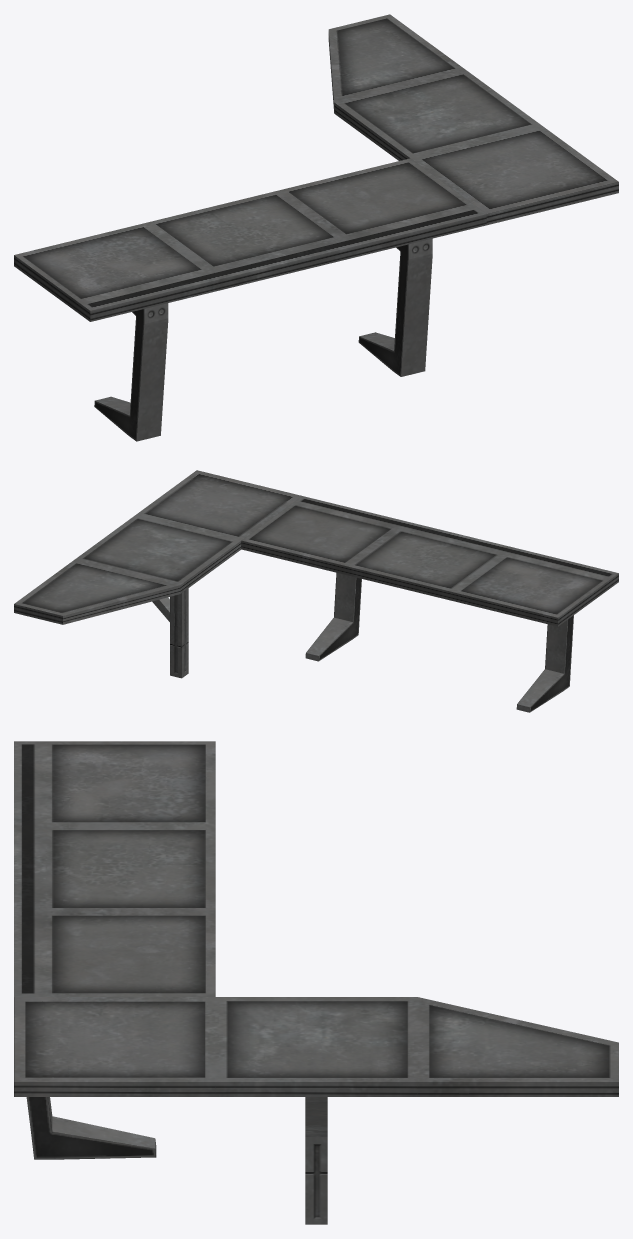
File: Obj_Counter_3.FBX
The picture shows the model from 3 angles, top to bottom: view 1: azimuth 30°, elevation 25°; view 2: azimuth 150°, elevation 25°; view 3: azimuth 270°, elevation 25°; orthographic projection. The views are drawn at different scales.
Visible parts, largest first — view 1: Counter_3; view 2: Counter_3; view 3: Counter_3.
Part boxes in pixels (box(x1,y1,x2,y2)): Counter_3: box(14, 14, 618, 441); Counter_3: box(14, 470, 618, 712); Counter_3: box(14, 741, 618, 1224).
Size of the model in its own units: 4 by 1.08 by 3.
